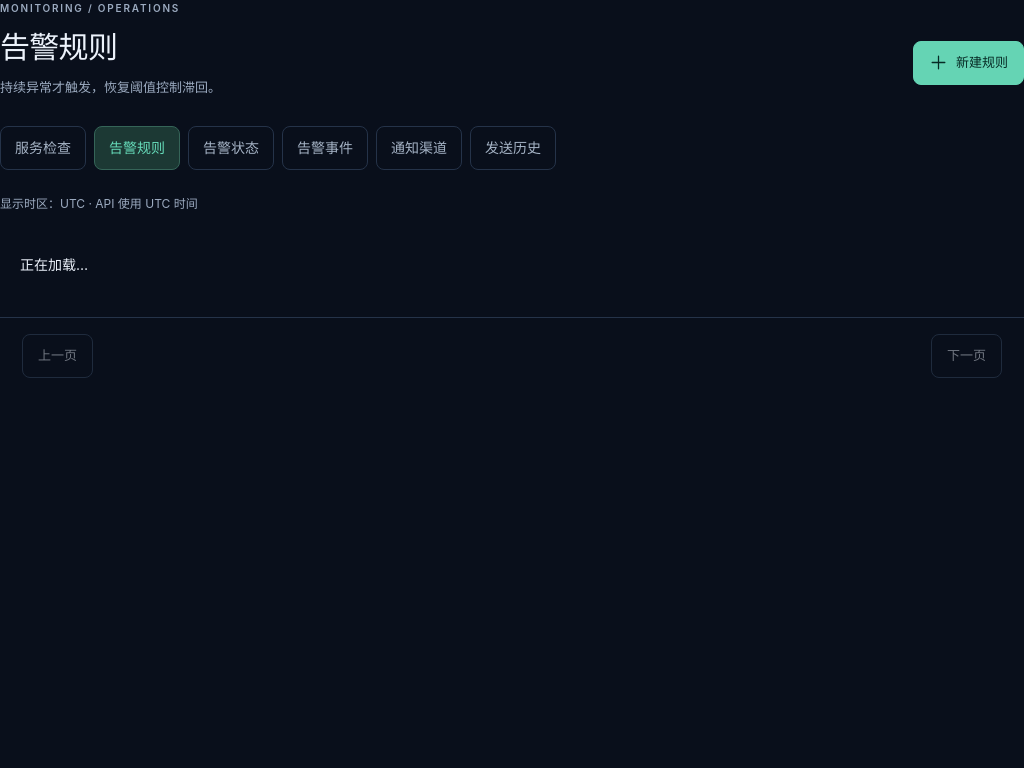
Scenario: rule metric names distinguish available memory and binary service state
The width and height of the screenshot is (1024, 768).
Click the button "新建规则": (968, 63) [913,41,1023,85]
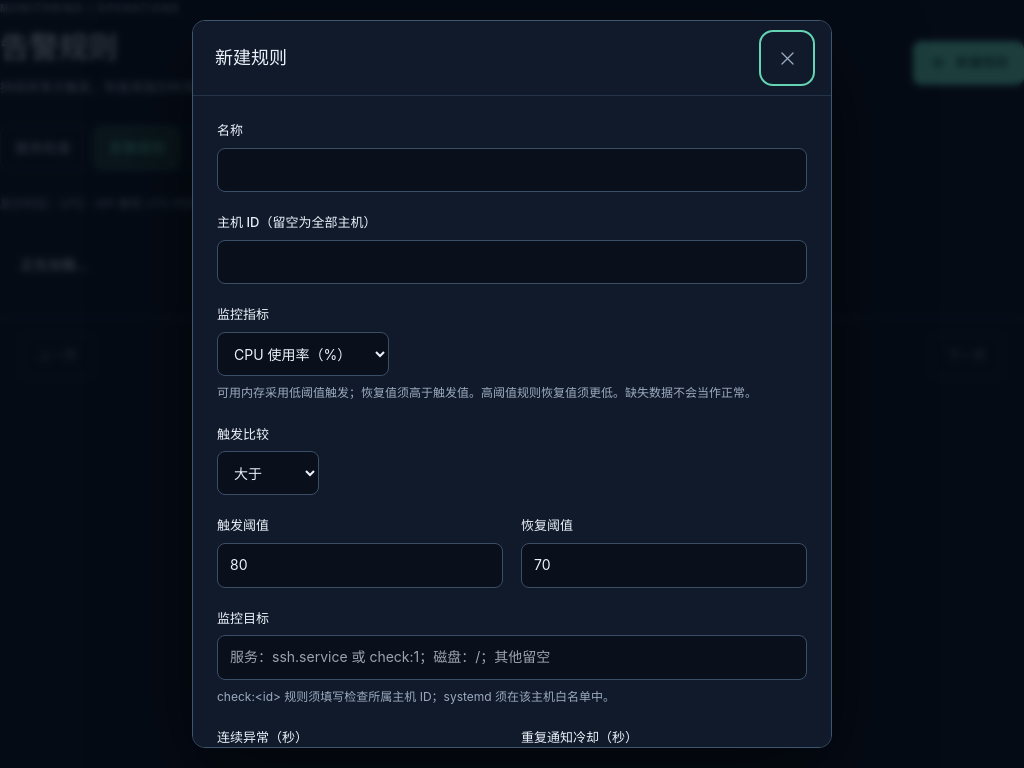
Select "服务不可用（1/0）" in the dropdown labelled "监控指标": (303, 354) [217,332,389,376]
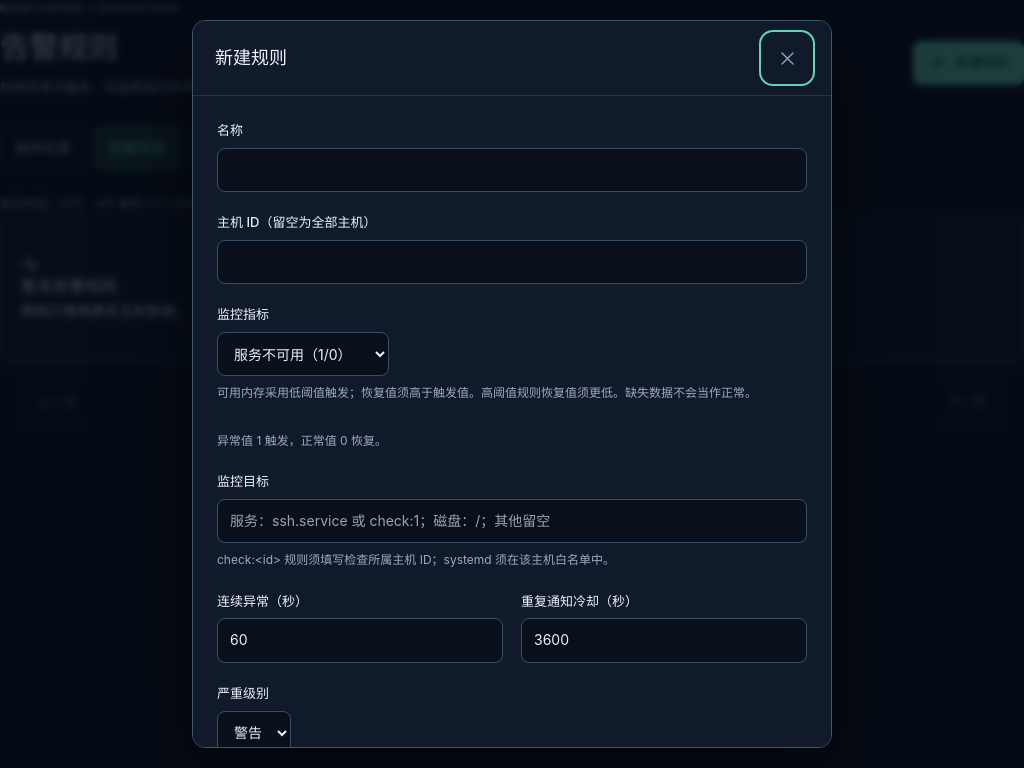
Check: the text "异常值 1 触发，正常值 0 恢复。" is shown, box [217,433,387,448]
Check: the label labelled "触发阈值" is gone
